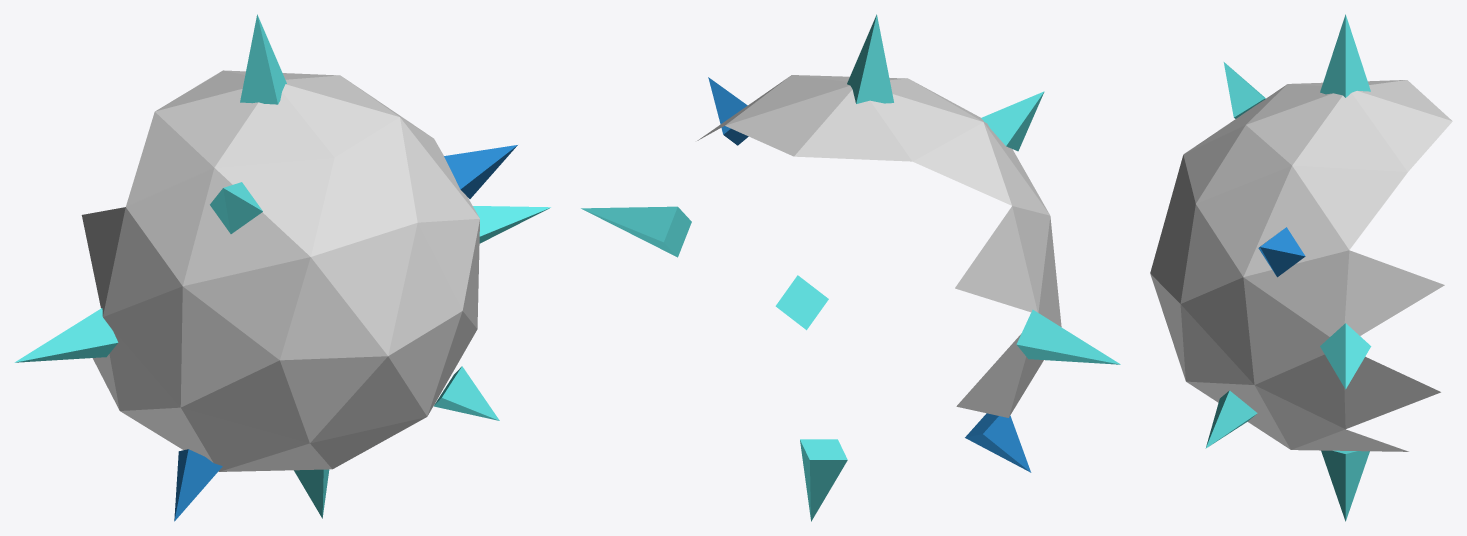
File: ice.glb
The picture shows the model from 3 angles, left to right: view 1: azimuth 30°, elevation 25°; view 2: azimuth 150°, elevation 25°; view 3: azimuth 270°, elevation 25°; orthographic projection. The views are drawn at different scales.
Parts seen in each view (by area): view 1: Ice, Crystal4, Crystal2, Crystal1, Crystal5, Crystal7, Crystal3, Crystal0, Crystal6; view 2: Ice, Crystal0, Crystal4, Crystal2, Crystal6, Crystal5, Crystal3, Crystal7, Crystal1; view 3: Ice, Crystal2, Crystal6, Crystal0, Crystal7, Crystal1, Crystal3.
Part boxes in pixels (<box>): Ice: <box>81,70,479,471</box>; Crystal4: <box>14,308,118,362</box>; Crystal2: <box>240,14,286,104</box>; Crystal1: <box>444,145,517,198</box>; Crystal5: <box>174,449,222,521</box>; Crystal7: <box>433,366,499,420</box>; Crystal3: <box>210,182,262,233</box>; Crystal0: <box>473,206,550,243</box>; Crystal6: <box>294,469,329,518</box>; Ice: <box>697,75,1061,417</box>; Crystal0: <box>581,206,691,257</box>; Crystal4: <box>1016,309,1120,364</box>; Crystal2: <box>847,14,893,103</box>; Crystal6: <box>800,439,847,521</box>; Crystal5: <box>965,413,1031,472</box>; Crystal3: <box>981,91,1044,151</box>; Crystal7: <box>775,275,828,330</box>; Crystal1: <box>708,77,748,145</box>; Ice: <box>1150,80,1452,451</box>; Crystal2: <box>1320,14,1370,97</box>; Crystal6: <box>1321,450,1369,521</box>; Crystal0: <box>1320,323,1371,389</box>; Crystal7: <box>1205,390,1257,448</box>; Crystal1: <box>1258,227,1305,277</box>; Crystal3: <box>1223,62,1265,118</box>.
Bounding box in the file's own units: 4.44 × 4.11 × 2.36.
